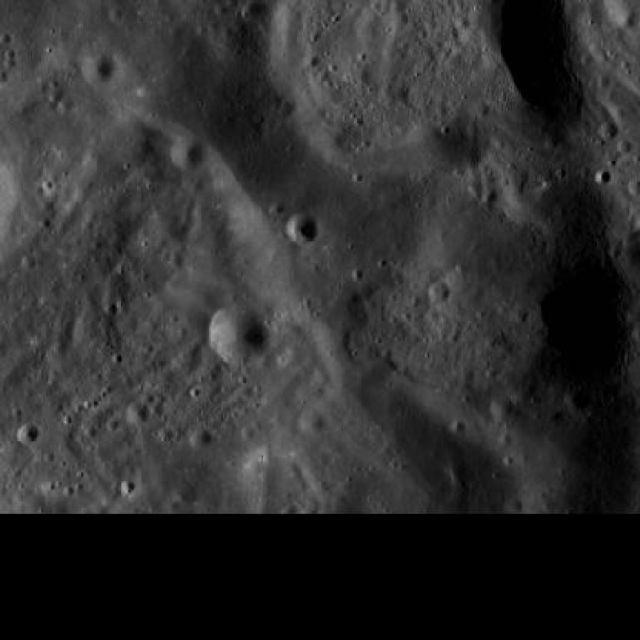crater: (379, 177, 627, 425), (268, 0, 574, 189), (506, 376, 640, 513), (408, 444, 524, 560), (209, 306, 266, 362), (74, 312, 122, 359), (237, 452, 277, 492), (171, 136, 204, 170), (82, 54, 113, 85), (286, 212, 317, 243), (104, 273, 132, 301), (174, 352, 200, 378), (83, 146, 106, 169), (300, 410, 323, 433), (356, 10, 379, 33), (566, 388, 588, 412), (190, 428, 212, 450), (128, 402, 150, 424), (492, 396, 514, 418), (18, 422, 38, 442), (429, 282, 449, 302), (599, 119, 619, 139), (292, 383, 311, 402), (180, 344, 200, 362), (246, 0, 266, 17), (449, 460, 466, 478), (92, 502, 108, 520), (282, 500, 298, 518), (0, 0, 2, 2)
